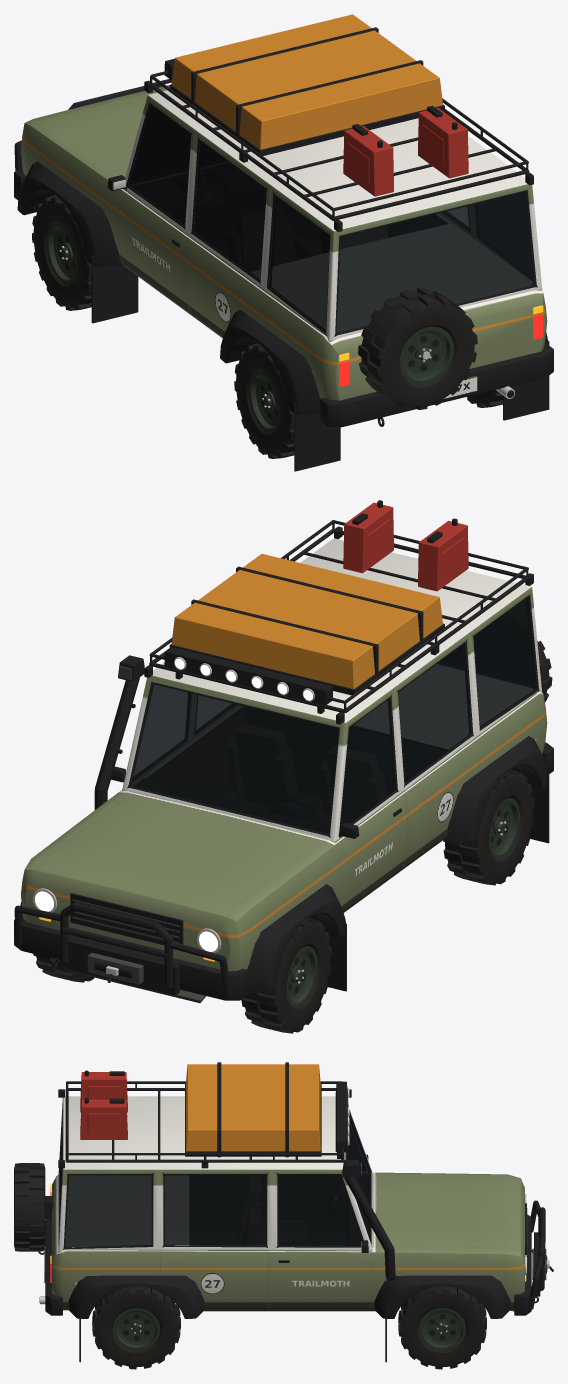
File: CAR-027_Export.fbx
3 renders of one model, top to bottom at view 1: azimuth 30°, elevation 25°; view 2: azimuth 150°, elevation 25°; view 3: azimuth 270°, elevation 25°, orthographic. The views are drawn at different scales.
Visible parts, largest first — view 1: CAR-027_Body, CAR-027_Accessories, CAR-027_Glass, CAR-027_SpareWheel, CAR-027_MudFlaps, CAR-027_Bumper_Rear, CAR-027_Wheel_RL_Tire, CAR-027_Wheel_FL_Tire, CAR-027_Wheel_FL_Rim, CAR-027_Wheel_RL_Rim, CAR-027_Lights, CAR-027_Trim; view 2: CAR-027_Body, CAR-027_Accessories, CAR-027_Glass, CAR-027_Wheel_RL_Tire, CAR-027_Wheel_FL_Tire, CAR-027_Bumper_Front, CAR-027_Trim, CAR-027_MudFlaps, CAR-027_Wheel_FL_Rim, CAR-027_Wheel_RL_Rim, CAR-027_Lights, CAR-027_Wheel_FR_Tire; view 3: CAR-027_Body, CAR-027_Accessories, CAR-027_Glass, CAR-027_Wheel_FR_Tire, CAR-027_Wheel_RR_Tire, CAR-027_SpareWheel, CAR-027_Wheel_RR_Rim, CAR-027_Wheel_FR_Rim, CAR-027_Bumper_Rear, CAR-027_Bumper_Front.
Part boxes in pixels (x1=…): CAR-027_Body: x1=17, y1=85, x2=548, y2=415; CAR-027_Accessories: x1=14, y1=14, x2=533, y2=231; CAR-027_Glass: x1=129, y1=105, x2=533, y2=332; CAR-027_SpareWheel: x1=358, y1=288, x2=477, y2=409; CAR-027_MudFlaps: x1=91, y1=255, x2=549, y2=471; CAR-027_Bumper_Rear: x1=320, y1=344, x2=553, y2=427; CAR-027_Wheel_RL_Tire: x1=234, y1=343, x2=294, y2=458; CAR-027_Wheel_FL_Tire: x1=32, y1=195, x2=91, y2=310; CAR-027_Wheel_FL_Rim: x1=46, y1=223, x2=77, y2=284; CAR-027_Wheel_RL_Rim: x1=249, y1=371, x2=279, y2=432; CAR-027_Lights: x1=339, y1=305, x2=543, y2=386; CAR-027_Trim: x1=172, y1=239, x2=514, y2=426; CAR-027_Body: x1=20, y1=538, x2=548, y2=989; CAR-027_Accessories: x1=14, y1=500, x2=533, y2=1003; CAR-027_Glass: x1=131, y1=597, x2=536, y2=833; CAR-027_Wheel_RL_Tire: x1=443, y1=769, x2=534, y2=885; CAR-027_Wheel_FL_Tire: x1=241, y1=918, x2=332, y2=1033; CAR-027_Bumper_Front: x1=14, y1=915, x2=247, y2=1000; CAR-027_Trim: x1=52, y1=808, x2=401, y2=968; CAR-027_MudFlaps: x1=327, y1=774, x2=549, y2=991; CAR-027_Wheel_FL_Rim: x1=286, y1=946, x2=317, y2=1007; CAR-027_Wheel_RL_Rim: x1=489, y1=798, x2=519, y2=858; CAR-027_Lights: x1=32, y1=888, x2=221, y2=961; CAR-027_Wheel_FR_Tire: x1=33, y1=954, x2=94, y2=982; CAR-027_Body: x1=52, y1=1096, x2=524, y2=1318; CAR-027_Accessories: x1=58, y1=1062, x2=553, y2=1311; CAR-027_Glass: x1=60, y1=1114, x2=370, y2=1247; CAR-027_Wheel_FR_Tire: x1=398, y1=1286, x2=486, y2=1369; CAR-027_Wheel_RR_Tire: x1=92, y1=1286, x2=180, y2=1369; CAR-027_SpareWheel: x1=14, y1=1163, x2=52, y2=1251; CAR-027_Wheel_RR_Rim: x1=113, y1=1307, x2=160, y2=1350; CAR-027_Wheel_FR_Rim: x1=419, y1=1307, x2=466, y2=1350; CAR-027_Bumper_Rear: x1=45, y1=1219, x2=62, y2=1315; CAR-027_Bumper_Front: x1=514, y1=1214, x2=531, y2=1315.
Bounding box in the file's own units: 2.05 × 2.44 × 4.98.
Materials: 18 (2 with a texture image).
